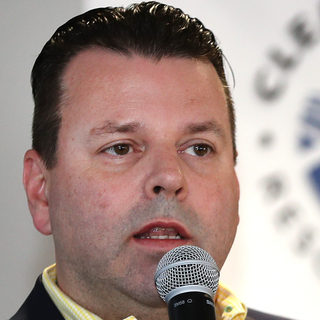eye: (94, 139, 150, 164), (173, 132, 220, 161)
